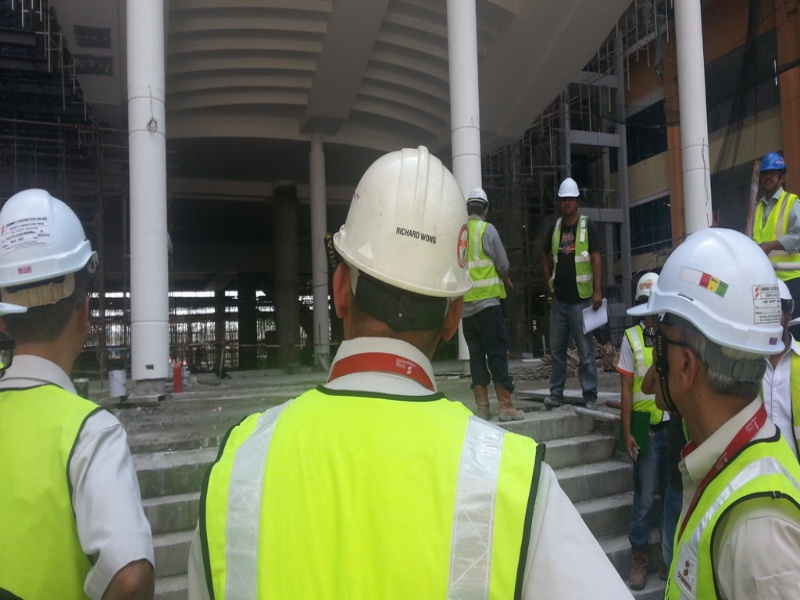helmet: (618, 228, 785, 354), (336, 147, 473, 299), (1, 187, 97, 282), (761, 155, 790, 174), (557, 178, 583, 198), (467, 187, 489, 201)
jacket: (217, 386, 529, 600), (671, 430, 800, 598), (1, 374, 91, 597), (460, 217, 503, 305), (754, 194, 800, 274), (553, 215, 593, 299)
